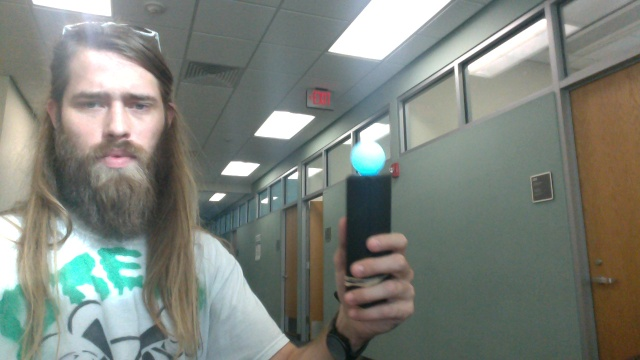wand: (352, 140, 386, 173)
